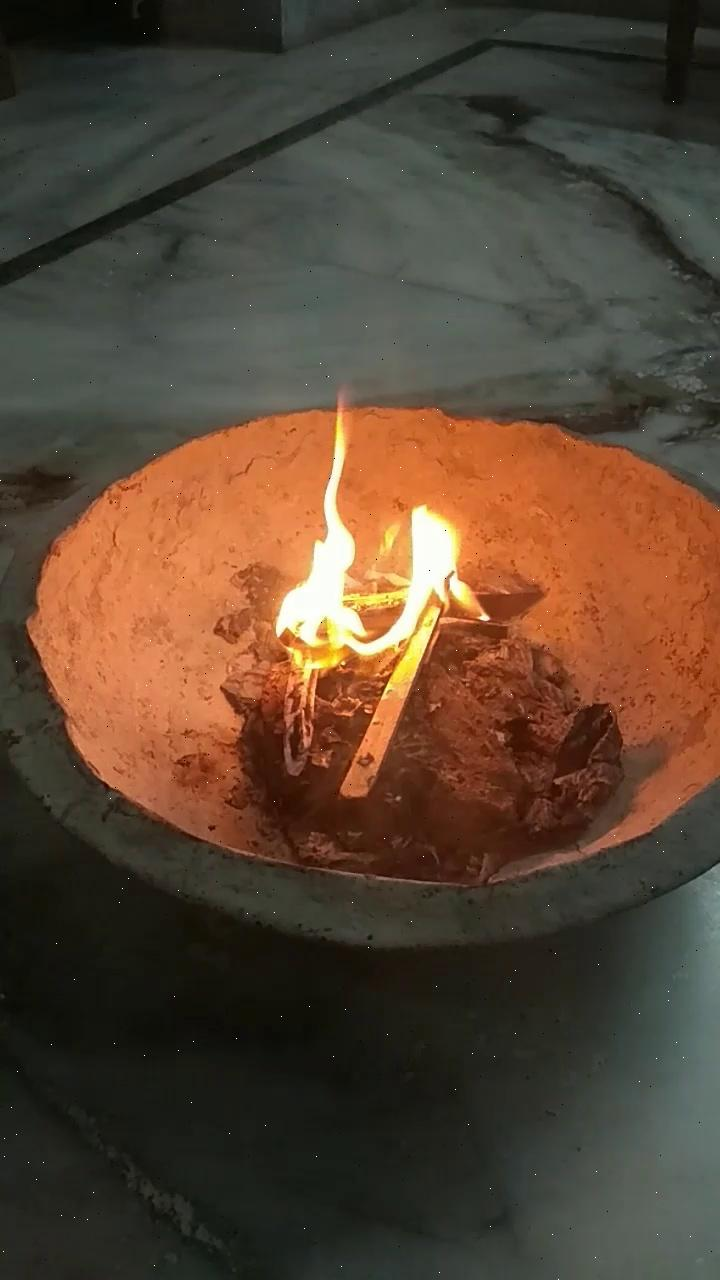fire: (256, 386, 489, 700)
